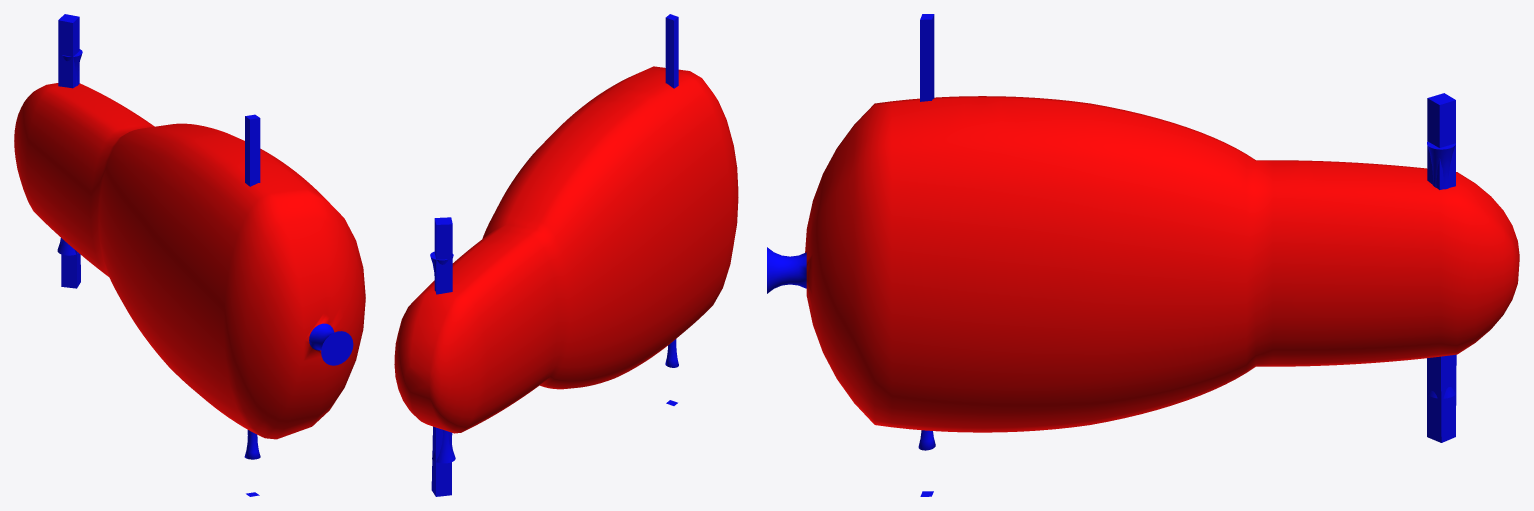
Rendered from body.obj.
3 views of the same model, side by side, from view 1: azimuth 30°, elevation 25°; view 2: azimuth 150°, elevation 25°; view 3: azimuth 270°, elevation 25° (orthographic). The views are drawn at different scales.
Parts seen in each view (by area): view 1: Mesh4 Model, Mesh3 Component_8_1 Model, Mesh1 Component_13_1 Model; view 2: Mesh4 Model, Mesh3 Component_8_1 Model, Mesh1 Component_13_1 Model; view 3: Mesh4 Model, Mesh3 Component_8_1 Model, Mesh1 Component_13_1 Model.
Part boxes in pixels (<box>): Mesh4 Model: <box>14,49,365,439</box>; Mesh3 Component_8_1 Model: <box>57,14,79,255</box>; Mesh1 Component_13_1 Model: <box>244,114,260,459</box>; Mesh4 Model: <box>394,66,738,496</box>; Mesh3 Component_8_1 Model: <box>432,217,455,463</box>; Mesh1 Component_13_1 Model: <box>665,14,678,367</box>; Mesh4 Model: <box>767,96,1519,442</box>; Mesh3 Component_8_1 Model: <box>1427,93,1455,398</box>; Mesh1 Component_13_1 Model: <box>918,14,935,450</box>.
Size of the model in its own units: 0.0917 by 0.2356 by 0.3368.
